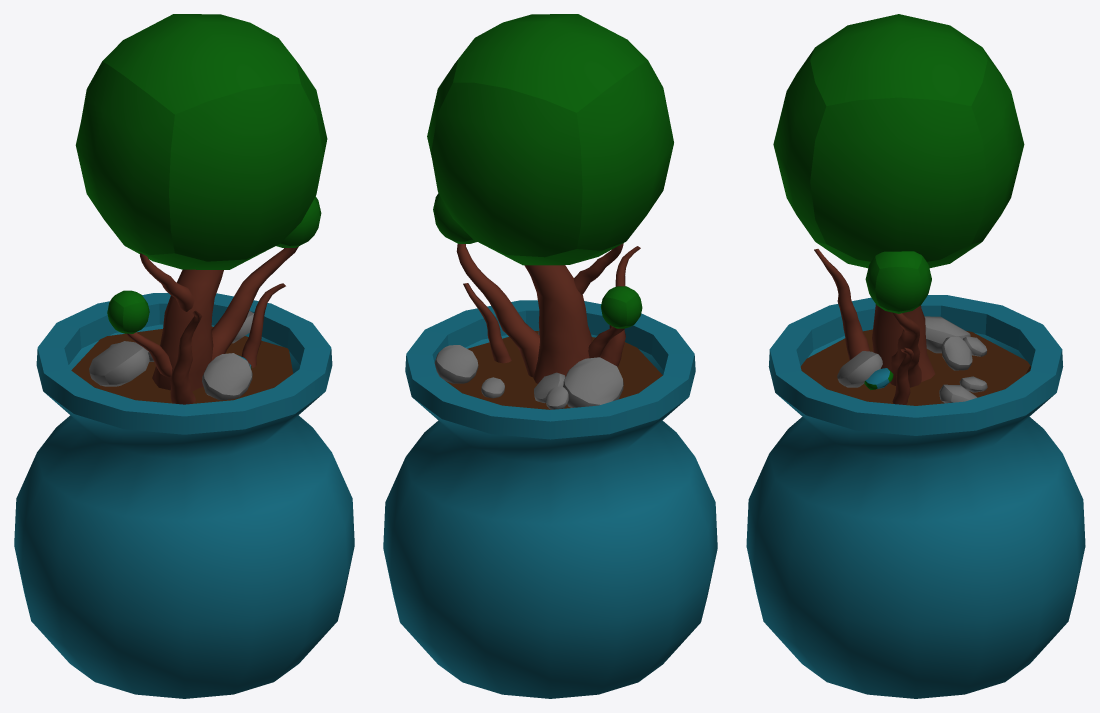
Rendered from vaso3.FBX.
The picture shows the model from 3 angles, left to right: view 1: azimuth 30°, elevation 25°; view 2: azimuth 150°, elevation 25°; view 3: azimuth 270°, elevation 25°; orthographic projection.
Parts seen in each view (by area): view 1: vaso2; view 2: vaso2; view 3: vaso2.
Part boxes in pixels (left/top/right/bottom): vaso2: left=14, top=14, right=354, bottom=698; vaso2: left=383, top=14, right=717, bottom=698; vaso2: left=746, top=14, right=1085, bottom=698.
Size of the model in its own units: 20.71 by 42.51 by 20.82.
